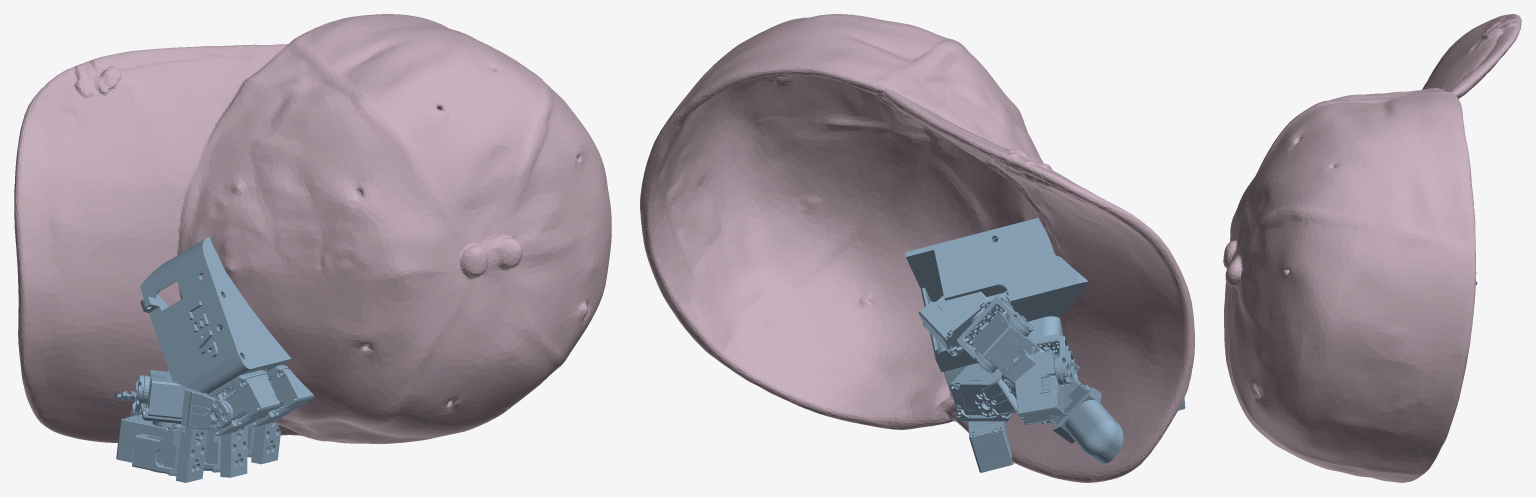
3 views of the same model, side by side, from view 1: azimuth 30°, elevation 25°; view 2: azimuth 150°, elevation 25°; view 3: azimuth 270°, elevation 25° (orthographic). The views are drawn at different scales.
Visible parts, largest first — view 1: obj_mesh_grasp_15.obj, world; view 2: obj_mesh_grasp_15.obj, world; view 3: obj_mesh_grasp_15.obj.
Boxes of the visible parts, x1,y1,x2,y2 form: obj_mesh_grasp_15.obj: [14, 14, 611, 443]; world: [107, 237, 314, 482]; obj_mesh_grasp_15.obj: [640, 14, 1194, 482]; world: [905, 218, 1185, 472]; obj_mesh_grasp_15.obj: [1223, 14, 1521, 482].
Size of the model in its own units: 0.347 by 0.2397 by 0.1826.
